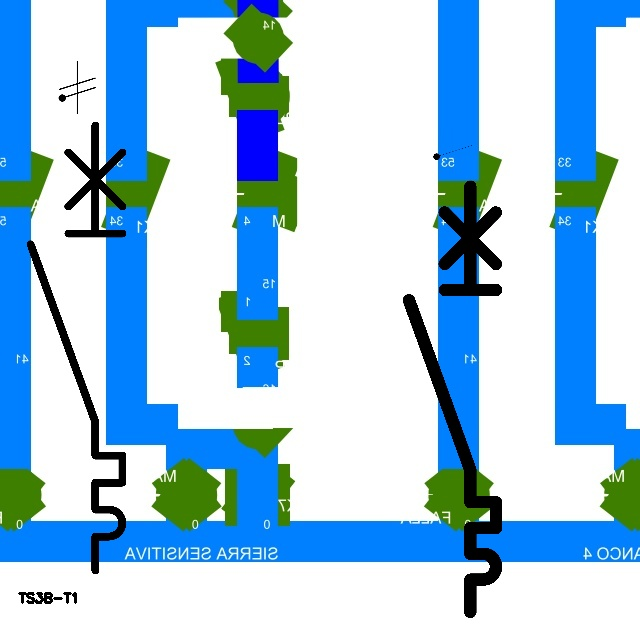interruptor_termomagnetico: (19, 114, 134, 582), (398, 175, 507, 622)
